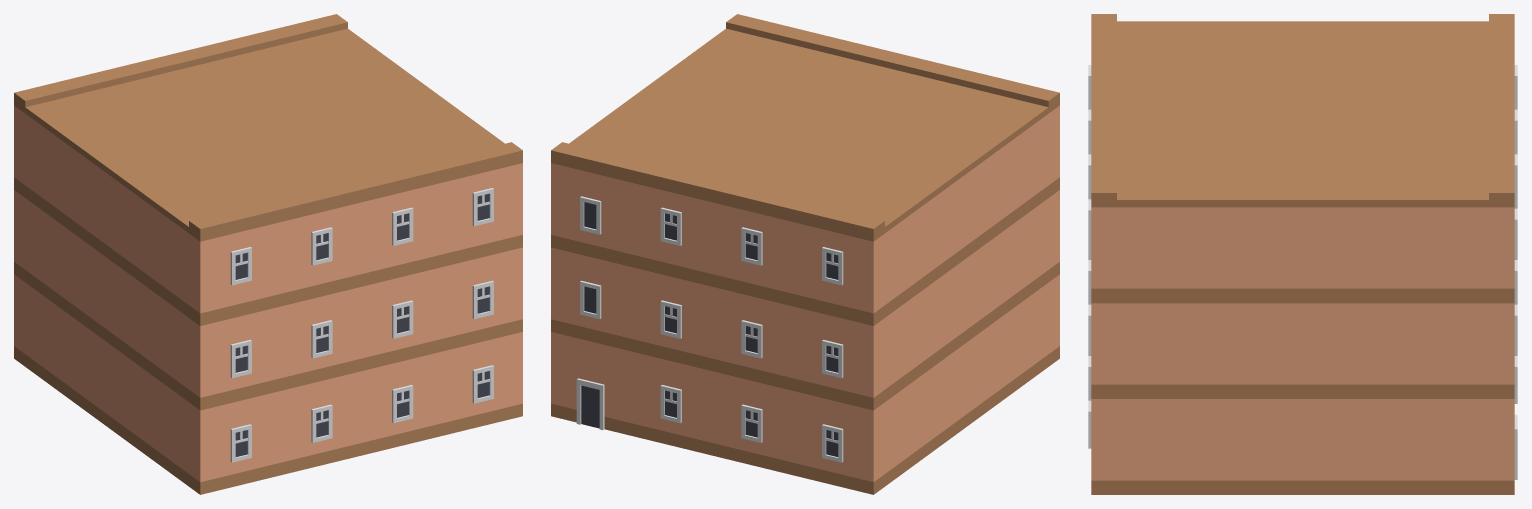
The model's file is ImmeubleCentralNormalBeige.fbx.
3 renders of one model, left to right at view 1: azimuth 30°, elevation 25°; view 2: azimuth 150°, elevation 25°; view 3: azimuth 270°, elevation 25°, orthographic. The views are drawn at different scales.
Parts seen in each view (by area): view 1: block_148, block_126, block_157, roof_flat_largeSide_170, roof_flat_largeSide_169, roof_flat_largeSide_172, roof_flat_largeSide_167, roof_flat_largeSide_171, roof_flat_largeSide_168, roof_flat_largeSide_173, roof_flat_largeSide_166, block_146 (+29 smaller); view 2: block_133, block_120, block_164, roof_flat_largeSide_169, roof_flat_largeSide_170, roof_flat_largeSide_167, roof_flat_largeSide_172, roof_flat_largeSide_168, roof_flat_largeSide_171, roof_flat_largeSide_166, roof_flat_largeSide_173, block_135 (+29 smaller); view 3: roof_flat_largeSide_166, roof_flat_largeSide_173, block_149, block_152, block_150, block_151, block_117, block_123, block_136, block_145, block_121, block_122 (+8 smaller).
Boxes of the visible parts, left/top/right/bottom form: block_148: left=153, top=292, right=280, bottom=410; block_126: left=153, top=377, right=280, bottom=494; block_157: left=153, top=208, right=280, bottom=325; roof_flat_largeSide_170: left=107, top=147, right=280, bottom=241; roof_flat_largeSide_169: left=14, top=73, right=187, bottom=173; roof_flat_largeSide_172: left=269, top=108, right=442, bottom=202; roof_flat_largeSide_167: left=176, top=33, right=348, bottom=127; roof_flat_largeSide_171: left=188, top=128, right=361, bottom=221; roof_flat_largeSide_168: left=95, top=53, right=267, bottom=147; roof_flat_largeSide_173: left=349, top=88, right=522, bottom=182; roof_flat_largeSide_166: left=256, top=14, right=429, bottom=107; block_146: left=361, top=267, right=442, bottom=370; block_133: left=793, top=292, right=920, bottom=410; block_120: left=793, top=377, right=920, bottom=494; block_164: left=793, top=208, right=920, bottom=325; roof_flat_largeSide_169: left=793, top=147, right=966, bottom=241; roof_flat_largeSide_170: left=886, top=73, right=1059, bottom=173; roof_flat_largeSide_167: left=631, top=108, right=804, bottom=202; roof_flat_largeSide_172: left=725, top=33, right=897, bottom=127; roof_flat_largeSide_168: left=712, top=128, right=885, bottom=221; roof_flat_largeSide_171: left=806, top=53, right=978, bottom=147; roof_flat_largeSide_166: left=551, top=88, right=724, bottom=182; roof_flat_largeSide_173: left=644, top=14, right=817, bottom=107; block_135: left=631, top=267, right=712, bottom=370; roof_flat_largeSide_166: left=1303, top=148, right=1514, bottom=207; roof_flat_largeSide_173: left=1091, top=148, right=1302, bottom=207; block_149: left=1408, top=207, right=1514, bottom=303; block_152: left=1091, top=207, right=1197, bottom=303; block_150: left=1303, top=207, right=1408, bottom=303; block_151: left=1197, top=207, right=1302, bottom=303; block_117: left=1408, top=399, right=1514, bottom=494; block_123: left=1091, top=399, right=1197, bottom=494; block_136: left=1408, top=303, right=1514, bottom=398; block_145: left=1091, top=303, right=1197, bottom=398; block_121: left=1303, top=399, right=1408, bottom=494; block_122: left=1197, top=399, right=1302, bottom=494.
Size of the model in its own units: 40 by 31.5 by 40.6.
